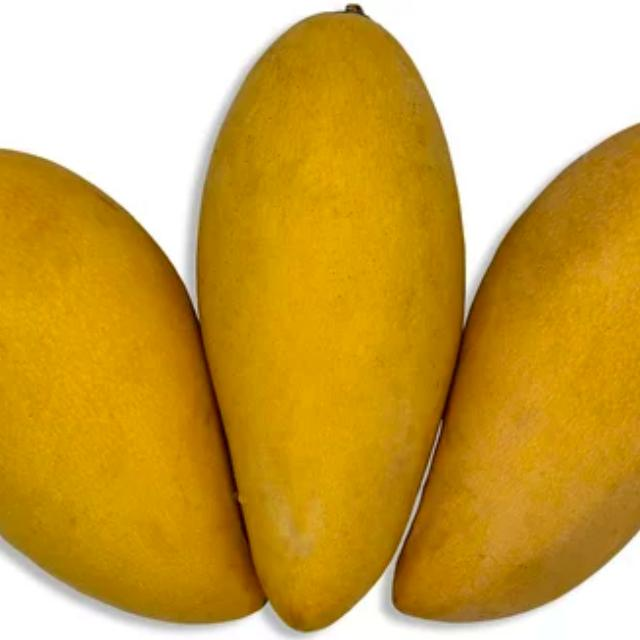mango: (194, 7, 469, 631), (0, 142, 276, 621), (392, 107, 640, 624)
